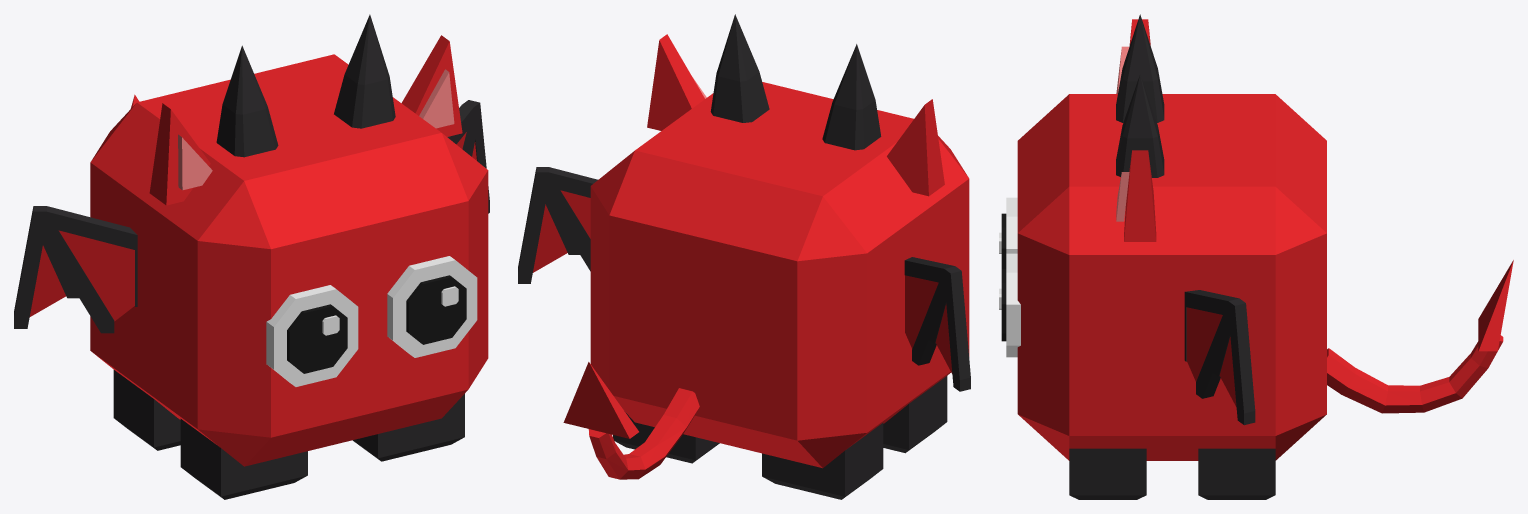
File: ImpCat.fbx
The picture shows the model from 3 angles, left to right: view 1: azimuth 30°, elevation 25°; view 2: azimuth 150°, elevation 25°; view 3: azimuth 270°, elevation 25°; orthographic projection. The views are drawn at different scales.
Parts seen in each view (by area): view 1: ImpCat, ImpCat_Feet, ImpCat_Eyes, ImpCat_Horns, ImpCat_Ribs, ImpCat_Pupils, ImpCat_Ears, ImpCat_Wings, ImpCat_EarInner; view 2: ImpCat, ImpCat_Ribs, ImpCat_Feet, ImpCat_Horns, ImpCat_Ears, ImpCat_Tail, ImpCat_Wings, ImpCat_TailTip; view 3: ImpCat, ImpCat_Feet, ImpCat_Horns, ImpCat_Tail, ImpCat_Ribs, ImpCat_Ears, ImpCat_Wings, ImpCat_Eyes, ImpCat_TailTip, ImpCat_Pupils, ImpCat_EarInner.
Part boxes in pixels (<box>): ImpCat: <box>90,54,488,466</box>; ImpCat_Feet: <box>113,370,464,499</box>; ImpCat_Eyes: <box>266,256,477,386</box>; ImpCat_Horns: <box>216,14,395,157</box>; ImpCat_Ribs: <box>14,100,489,333</box>; ImpCat_Pupils: <box>287,275,466,373</box>; ImpCat_Ears: <box>149,35,462,205</box>; ImpCat_Wings: <box>29,132,476,321</box>; ImpCat_EarInner: <box>178,69,454,190</box>; ImpCat: <box>590,82,969,468</box>; ImpCat_Ribs: <box>518,167,970,391</box>; ImpCat_Feet: <box>613,376,947,499</box>; ImpCat_Horns: <box>710,14,881,150</box>; ImpCat_Ears: <box>647,34,944,196</box>; ImpCat_Tail: <box>588,388,699,479</box>; ImpCat_Wings: <box>533,190,952,373</box>; ImpCat_TailTip: <box>563,362,638,438</box>; ImpCat: <box>1017,94,1326,460</box>; ImpCat_Feet: <box>1069,448,1275,499</box>; ImpCat_Horns: <box>1116,14,1164,177</box>; ImpCat_Tail: <box>1327,335,1503,413</box>; ImpCat_Ribs: <box>1184,290,1255,425</box>; ImpCat_Ears: <box>1124,19,1156,241</box>; ImpCat_Wings: <box>1186,307,1236,407</box>; ImpCat_Eyes: <box>999,197,1020,357</box>; ImpCat_TailTip: <box>1478,260,1513,351</box>; ImpCat_Pupils: <box>1001,213,1006,341</box>; ImpCat_EarInner: <box>1116,46,1129,221</box>.
Bounding box in the file's own units: 3.28 × 2.76 × 3.2.
